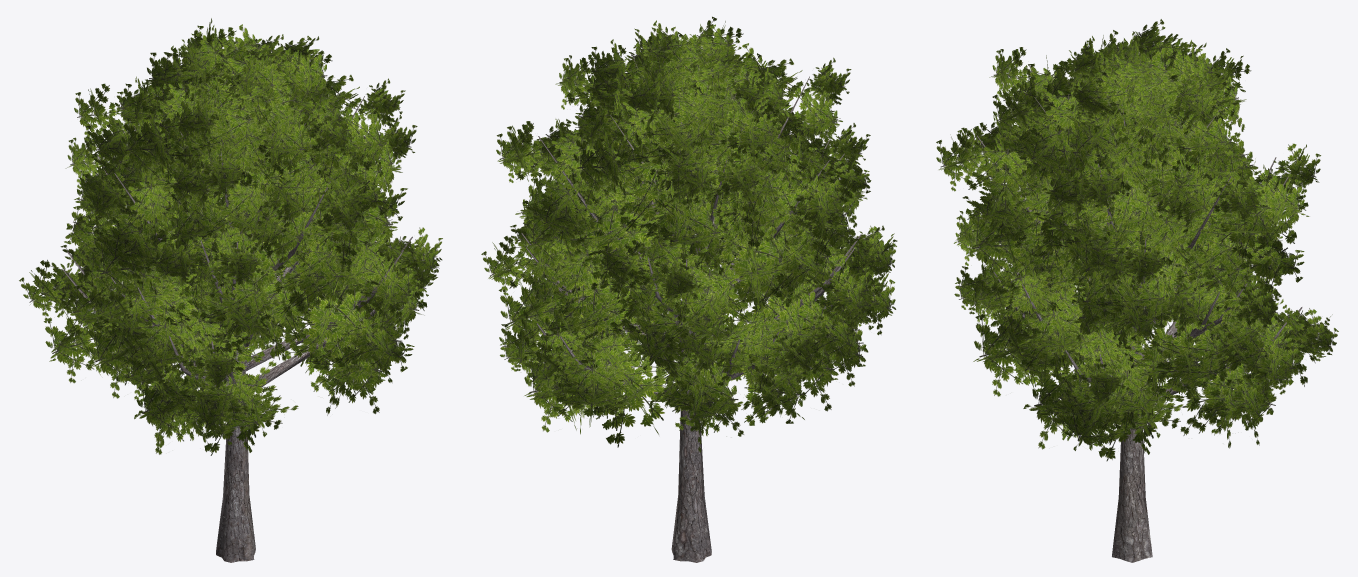
The model's file is tree.glb.
3 renders of one model, left to right at view 1: azimuth 30°, elevation 25°; view 2: azimuth 150°, elevation 25°; view 3: azimuth 270°, elevation 25°, orthographic.
Parts seen in each view (by area): view 1: tree6_bark_0; view 2: tree6_bark_0; view 3: tree6_bark_0.
Part boxes in pixels (box(x1,y1,x2,y2)): tree6_bark_0: box(19, 18, 442, 562); tree6_bark_0: box(481, 16, 897, 562); tree6_bark_0: box(936, 19, 1338, 562).
Bounding box in the file's own units: 64.44 × 88.14 × 63.2.
2 materials, 2 textured.
